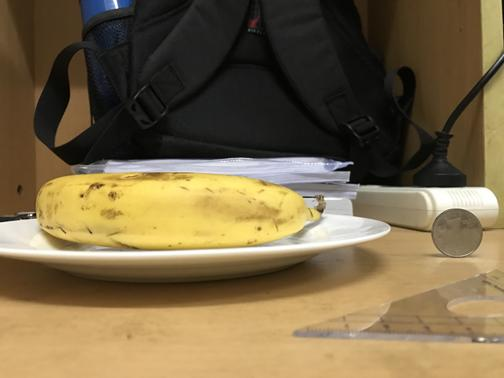banana: (33, 173, 319, 246)
coin: (429, 208, 483, 258)
